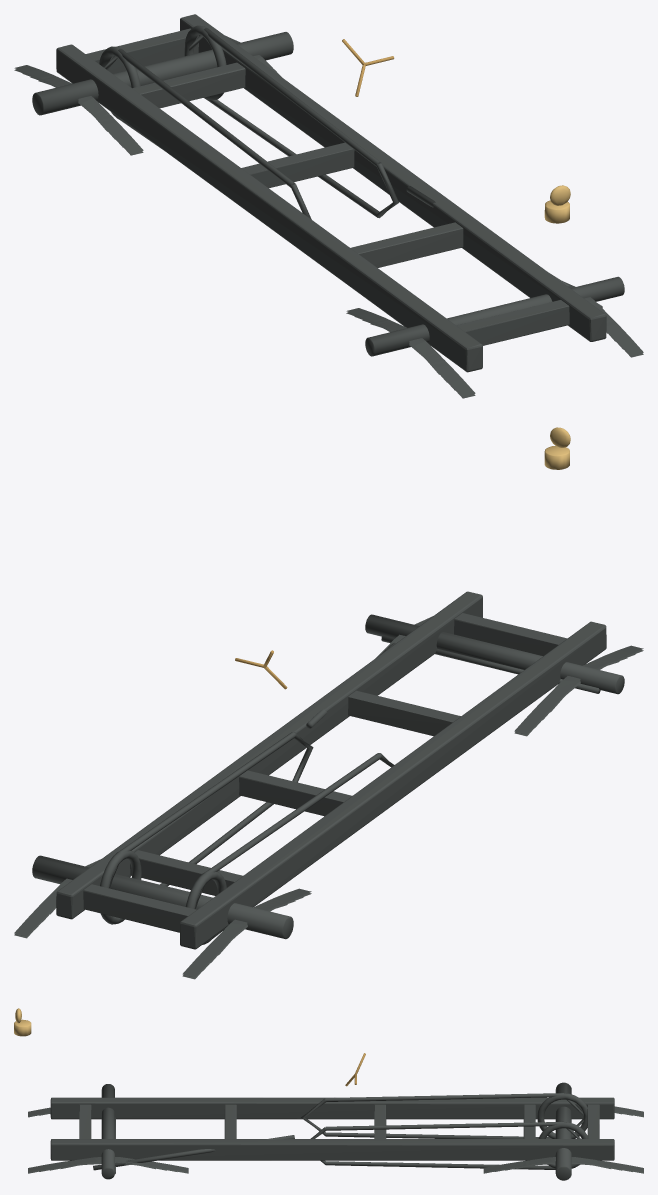
File: Benz_1912_Racer_Concept_LOD1.fbx
The picture shows the model from 3 angles, top to bottom: view 1: azimuth 30°, elevation 25°; view 2: azimuth 150°, elevation 25°; view 3: azimuth 270°, elevation 25°; orthographic projection. The views are drawn at different scales.
Parts seen in each view (by area): view 1: BENZ_Chassis_Root_OPT_Merged_RB_Steel_Blackened_OPT_DATA_LOD, BENZ_Radiator_Root_OPT_Merged_RB_Brass_Polished_OPT_DATA_LOD; view 2: BENZ_Chassis_Root_OPT_Merged_RB_Steel_Blackened_OPT_DATA_LOD, BENZ_Radiator_Root_OPT_Merged_RB_Brass_Polished_OPT_DATA_LOD; view 3: BENZ_Chassis_Root_OPT_Merged_RB_Steel_Blackened_OPT_DATA_LOD, BENZ_Radiator_Root_OPT_Merged_RB_Brass_Polished_OPT_DATA_LOD.
Boxes of the visible parts, <box> form: BENZ_Chassis_Root_OPT_Merged_RB_Steel_Blackened_OPT_DATA_LOD: <box>14,14,643,398</box>; BENZ_Radiator_Root_OPT_Merged_RB_Brass_Polished_OPT_DATA_LOD: <box>544,185,570,223</box>; BENZ_Chassis_Root_OPT_Merged_RB_Steel_Blackened_OPT_DATA_LOD: <box>14,591,643,979</box>; BENZ_Radiator_Root_OPT_Merged_RB_Brass_Polished_OPT_DATA_LOD: <box>544,427,570,469</box>; BENZ_Chassis_Root_OPT_Merged_RB_Steel_Blackened_OPT_DATA_LOD: <box>28,1082,643,1180</box>; BENZ_Radiator_Root_OPT_Merged_RB_Brass_Polished_OPT_DATA_LOD: <box>14,1008,31,1036</box>.
Size of what is drawn, in the model's own units: 146 by 119 by 463.
